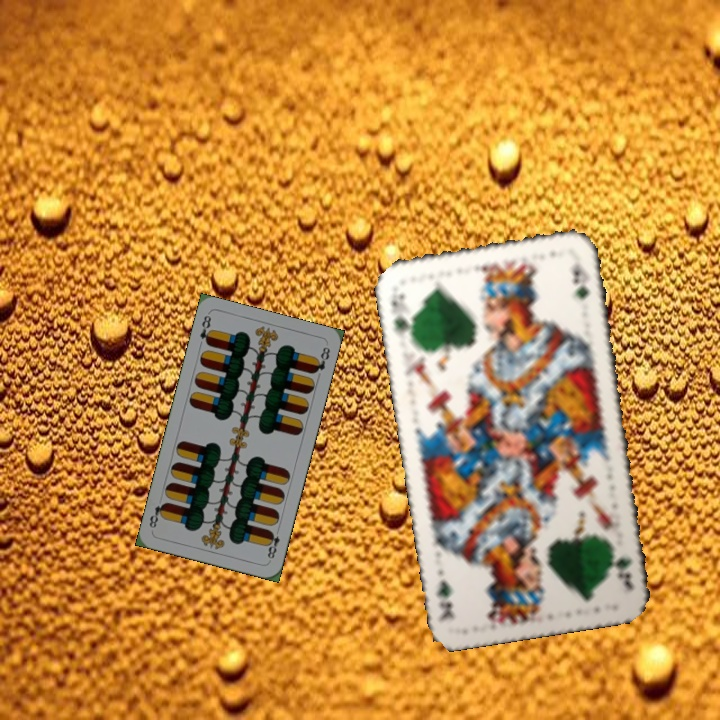E8: (263, 524, 283, 563), (196, 311, 215, 348)
GK: (386, 290, 416, 339), (613, 553, 636, 595)
